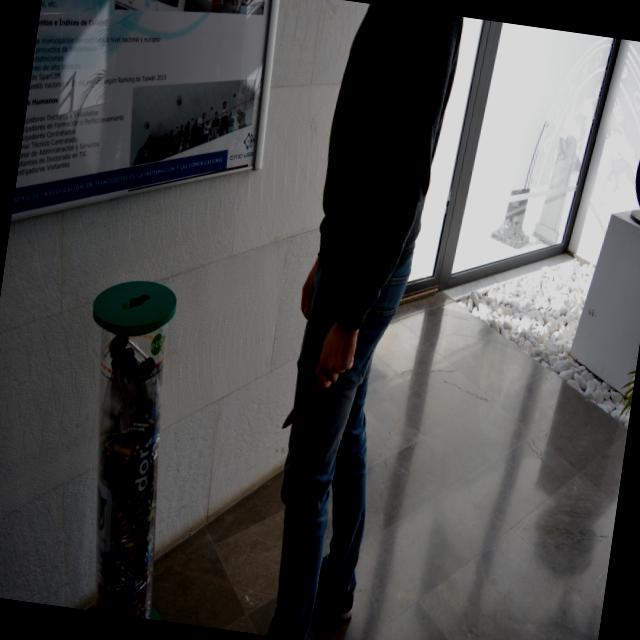knife: (278, 361, 333, 436)
